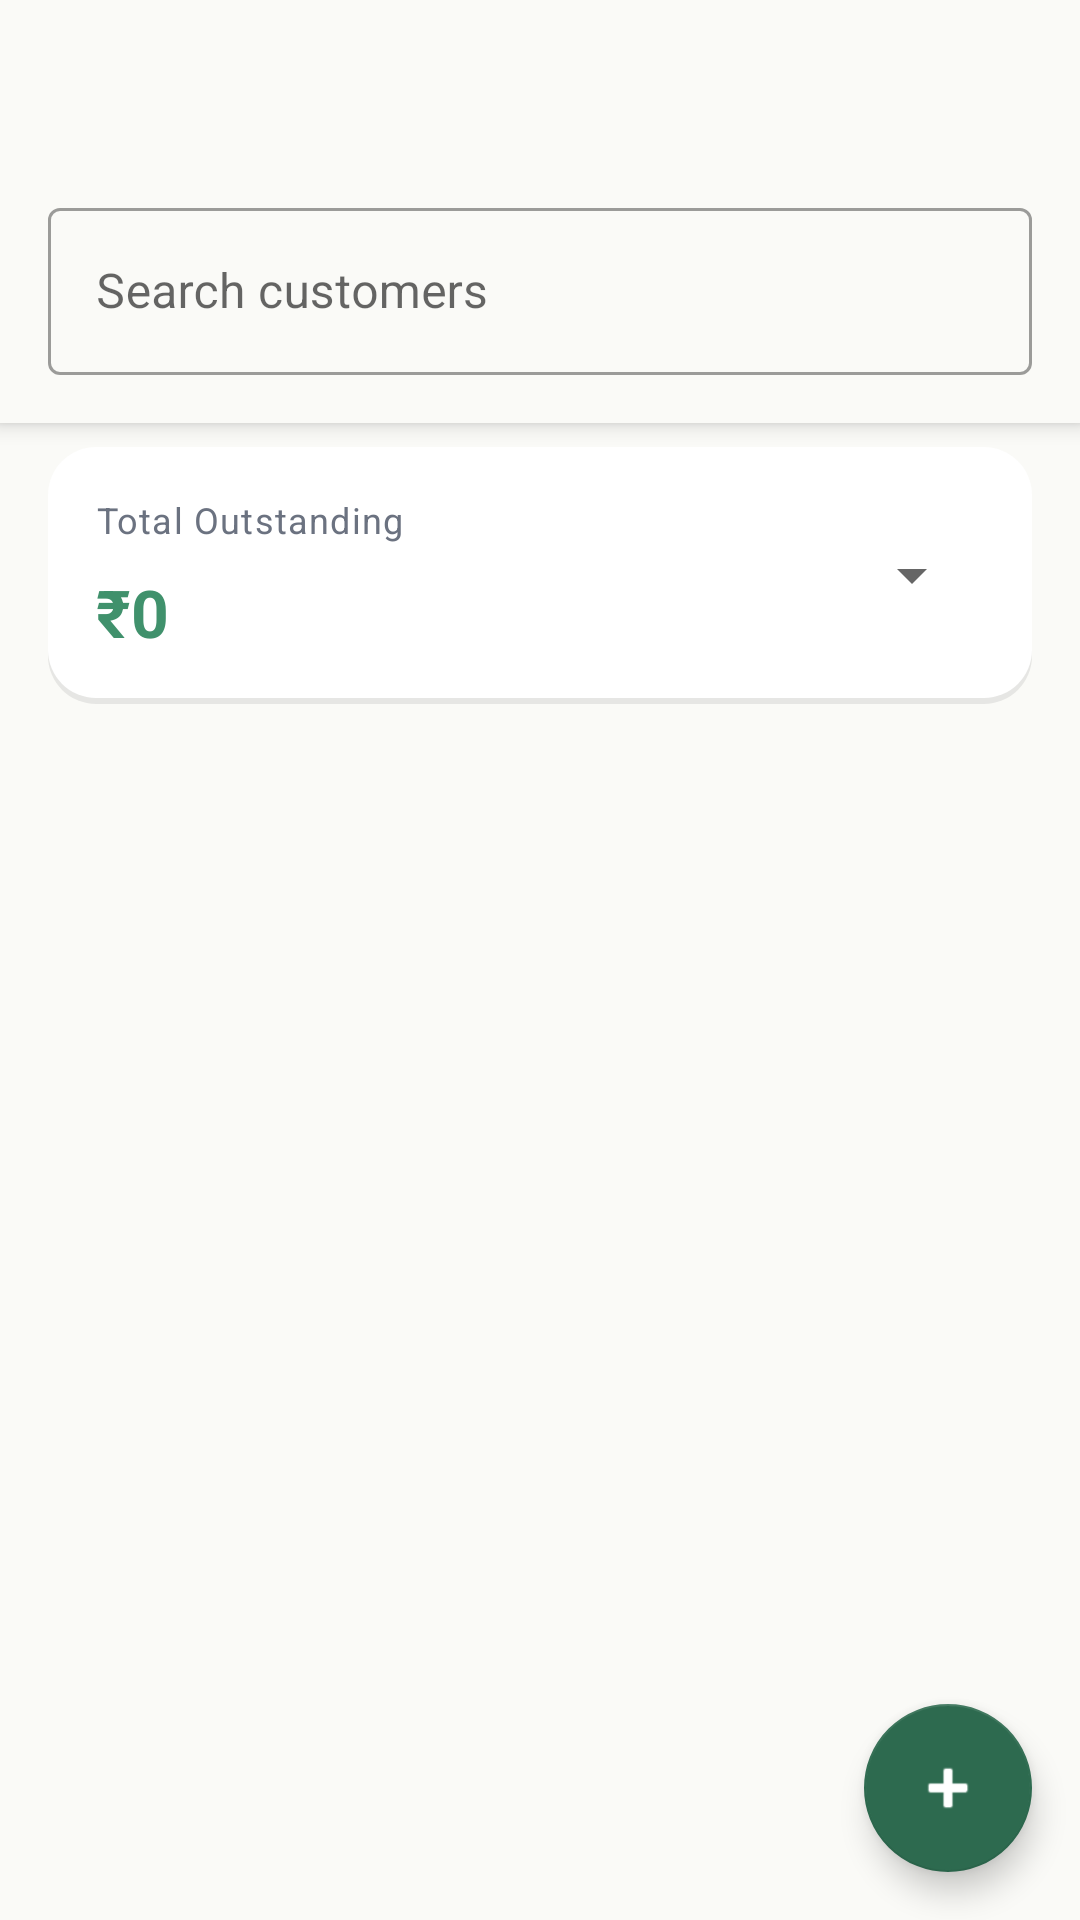

Where to tap for icons on this 1080 × 1920 app screen, as point (x, y):
Add Customer: point (948, 1788)
